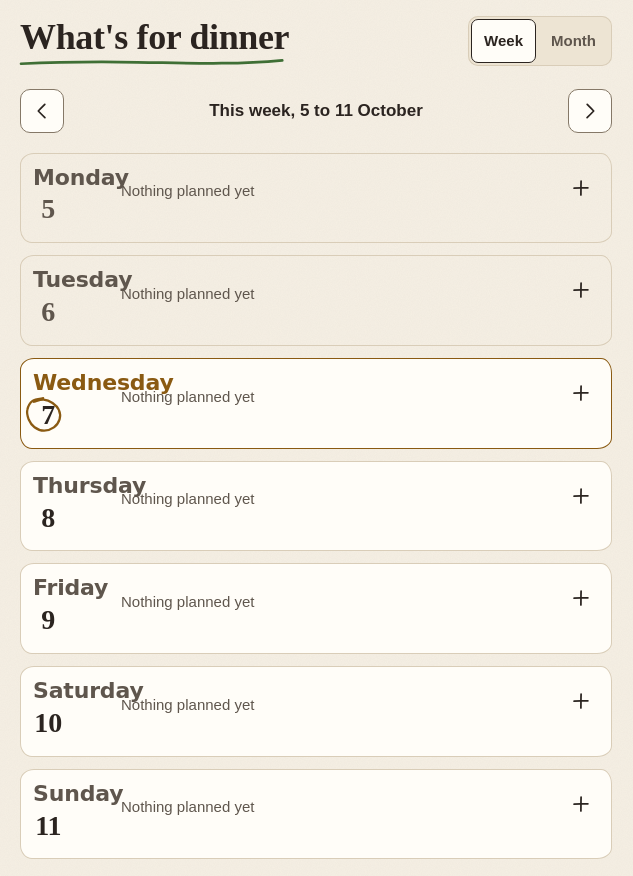
Test: WeekScreen › moves to the next and previous weeks and back to this week, saying where it is
Click the button named "Next week" at (590, 110), box [568,88,612,132]
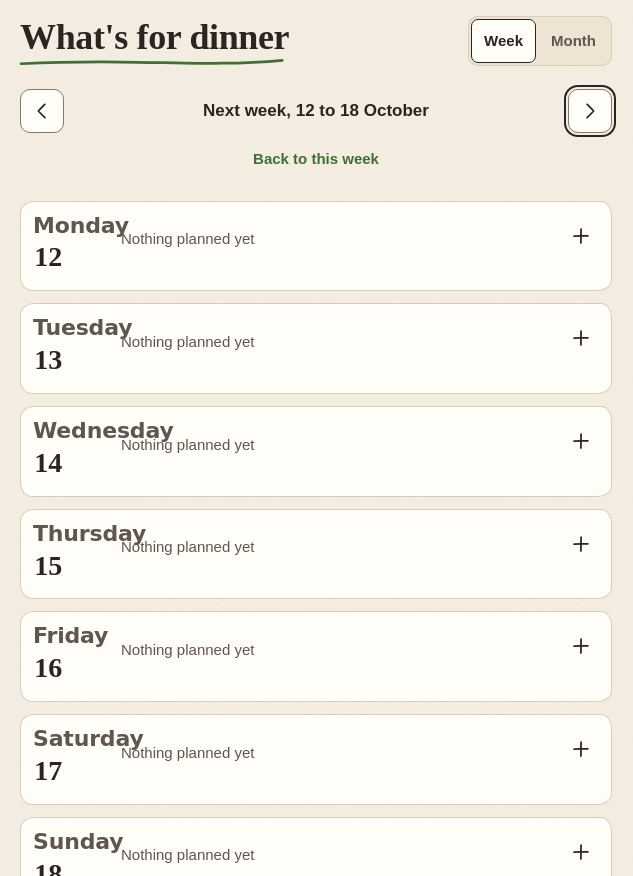
Result: the text "Next week, 12 to 18 October" is shown at [203,100,429,120]
Click the button "Back to this week" at (316, 158), box [244,136,388,180]
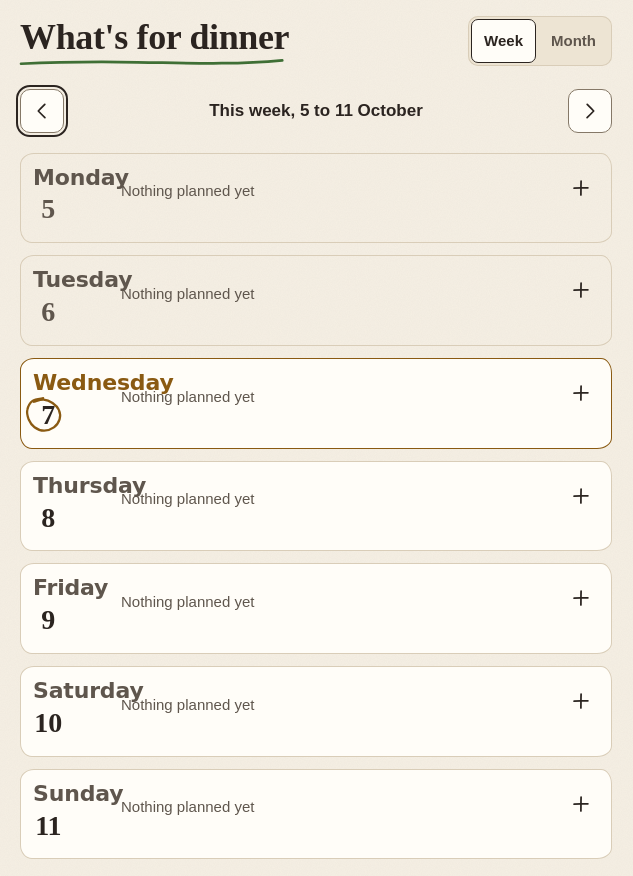
Result: the text "This week, 5 to 11 October" is shown at [209,100,423,120]
Result: the button "Back to this week" is gone
Click the button named "Previous week" at (42, 110), box [20,88,64,132]
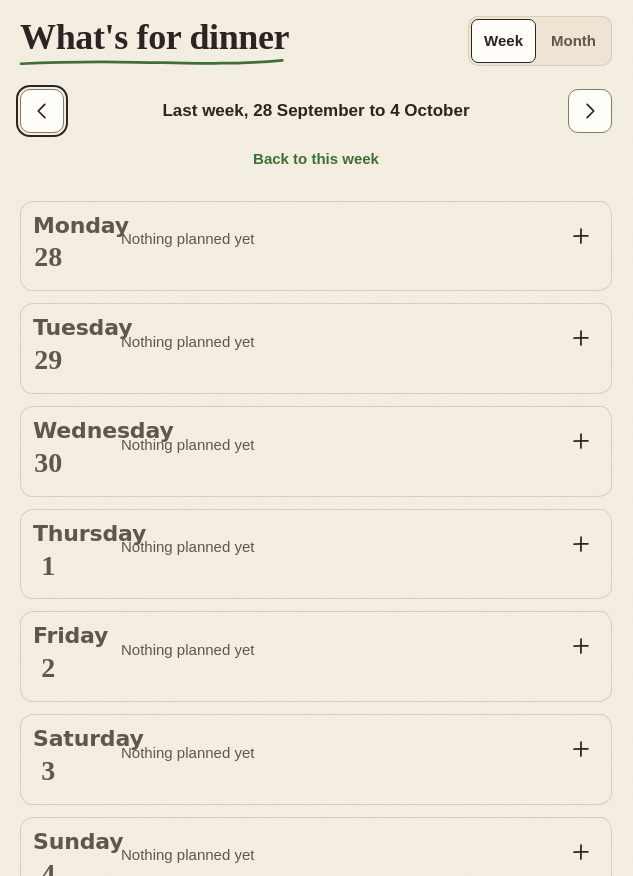
Result: the text "Last week, 28 September to 4 October" is shown at [162,100,470,120]
Click the button named "Previous week" at (42, 110), box [20,88,64,132]
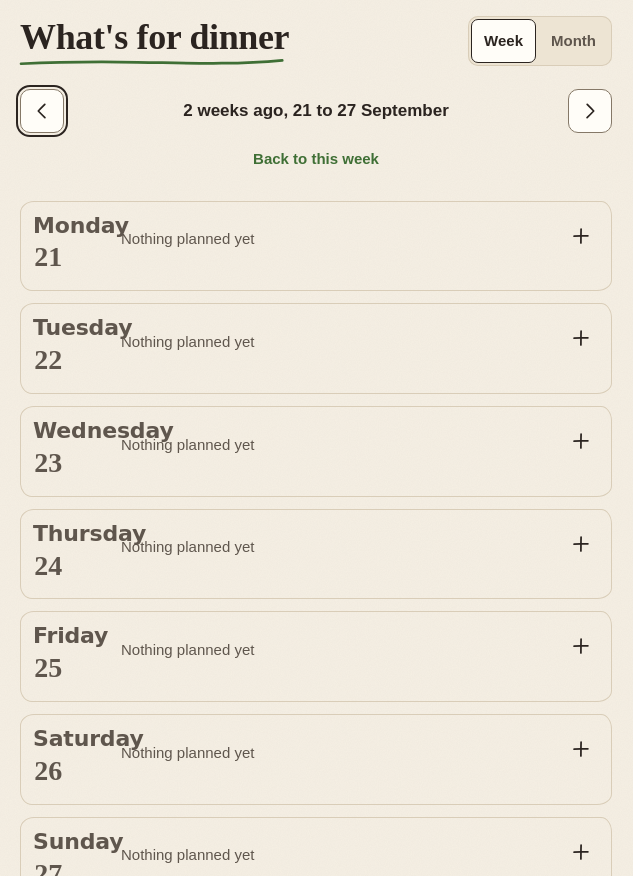
Result: the text "2 weeks ago, 21 to 27 September" is shown at [183,100,449,120]
